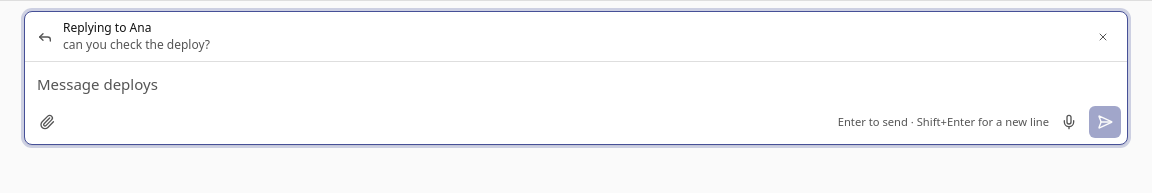
Test: the message sent answers it (ACT-07) › stays on the message when the send fails, to try again
This screenshot has width=1152, height=193.
Type "will fail" into the text box labelled "Message deploys".
click(576, 84); type("will fail")  # box 25,62 -> 1127,106
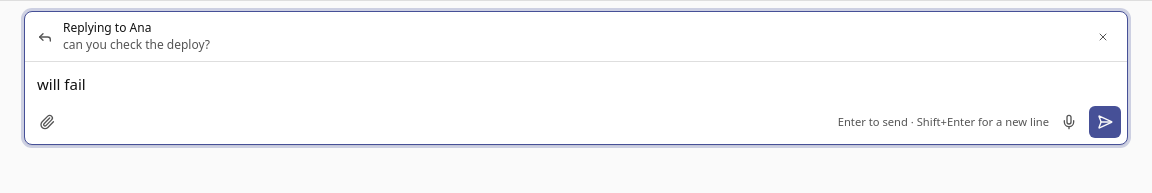
Click the button named "Send".
click(1105, 122)  # box 1089,106 -> 1121,138
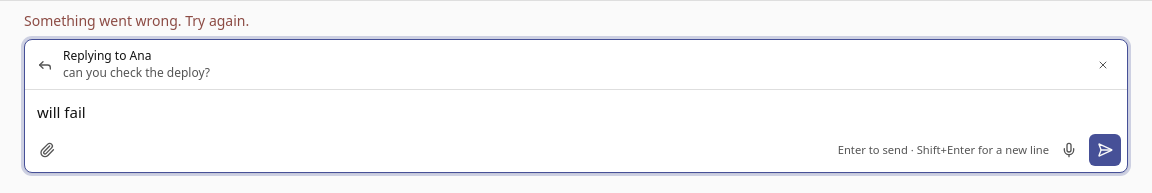
Expected: the element with test id "reply-strip" is shown, 25,40 -> 1127,90
Now the message "Something went wrong. Try again." is shown, box 24,11 -> 249,30
